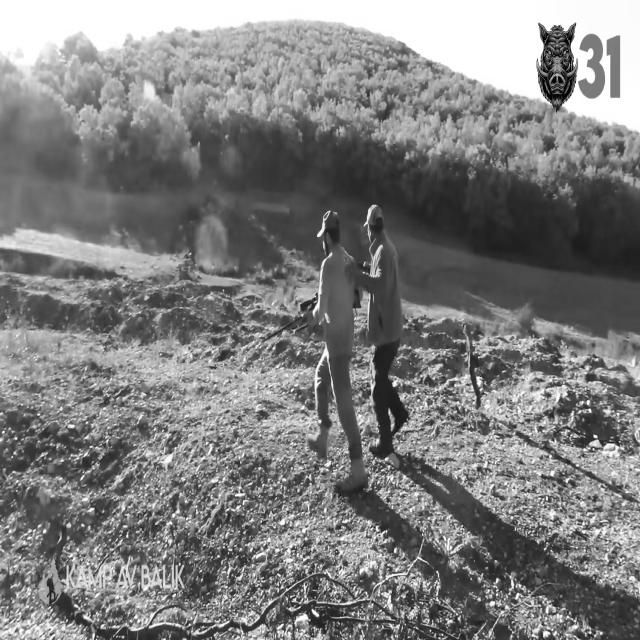boar: (536, 23, 577, 110)
monkey: (306, 210, 367, 492), (353, 204, 408, 457)
